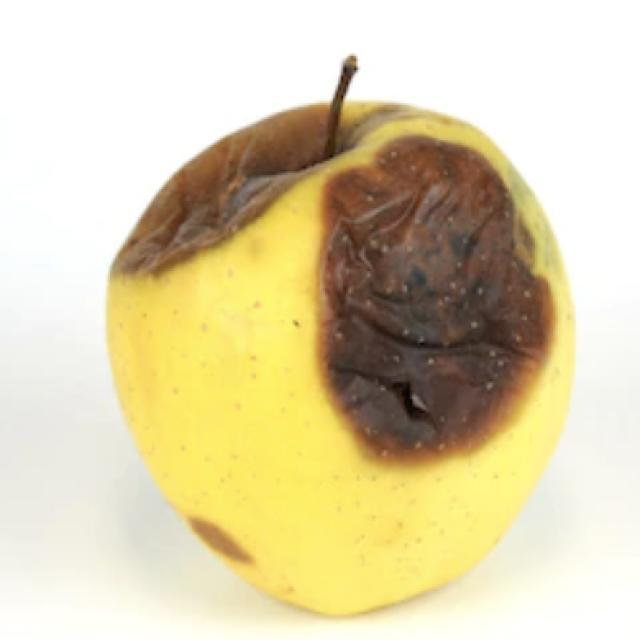Rotten: (105, 81, 578, 626)
